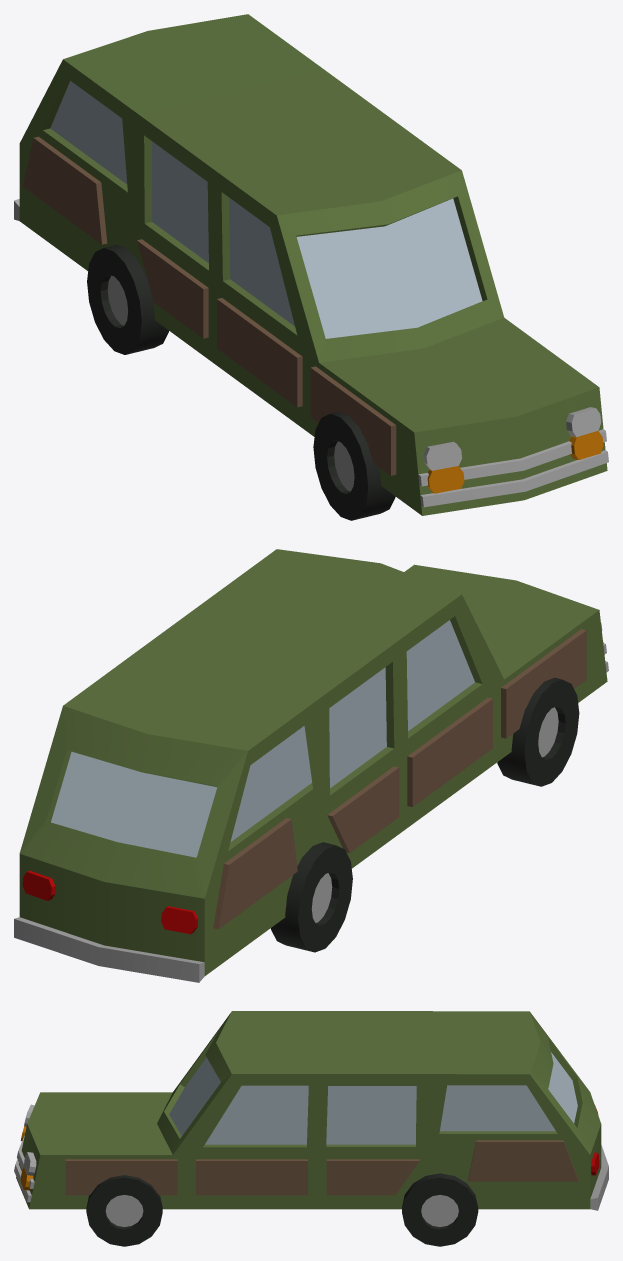
Rendered from Car.fbx.
3 views of the same model, one above another, from view 1: azimuth 30°, elevation 25°; view 2: azimuth 150°, elevation 25°; view 3: azimuth 270°, elevation 25° (orthographic). The views are drawn at different scales.
Visible parts, largest first — view 1: pCube55; view 2: pCube55; view 3: pCube55.
Boxes of the visible parts, x1=… form: pCube55: x1=14, y1=14, x2=608, y2=520; pCube55: x1=14, y1=549, x2=608, y2=982; pCube55: x1=14, y1=1011, x2=608, y2=1246.
Bounding box in the file's own units: 114 × 125 × 399.
